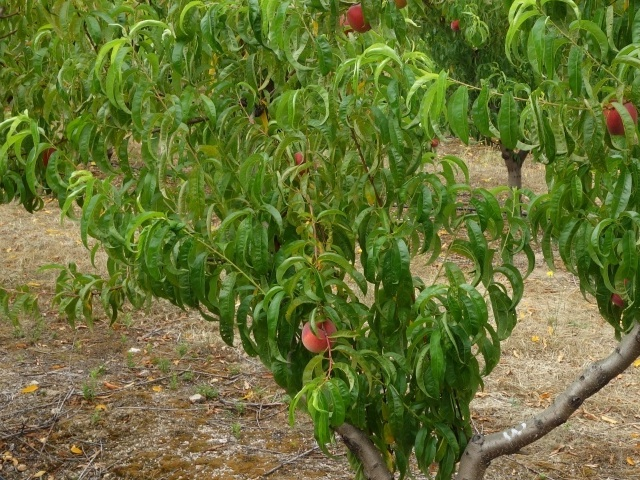peach: (596, 94, 638, 141), (299, 313, 340, 355), (342, 1, 379, 37)
